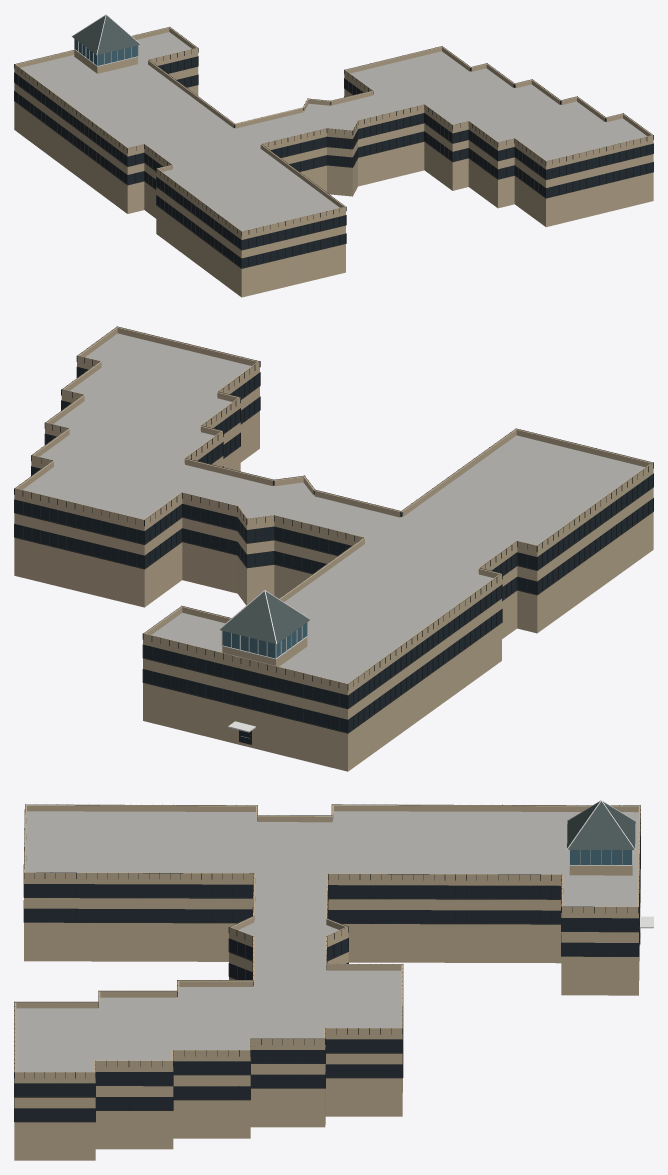
The model's file is administration_building.glb.
3 views of the same model, one above another, from view 1: azimuth 30°, elevation 25°; view 2: azimuth 150°, elevation 25°; view 3: azimuth 270°, elevation 25° (orthographic). The views are drawn at different scales.
Visible parts, largest first — view 1: administration_building_Wall_tan, administration_building_Roof_Membrane, administration_building_Glass_dark, administration_building_Frame_Dark, administration_building_Pyramid_Metal, administration_building_Glass_teal, administration_building_Trim_White; view 2: administration_building_Roof_Membrane, administration_building_Wall_tan, administration_building_Glass_dark, administration_building_Frame_Dark, administration_building_Pyramid_Metal, administration_building_Glass_teal, administration_building_Trim_White; view 3: administration_building_Roof_Membrane, administration_building_Wall_tan, administration_building_Glass_dark, administration_building_Frame_Dark, administration_building_Pyramid_Metal, administration_building_Glass_teal, administration_building_Trim_White.
Part boxes in pixels (x1=…): administration_building_Wall_tan: x1=14, y1=27, x2=653, y2=297; administration_building_Roof_Membrane: x1=20, y1=32, x2=646, y2=231; administration_building_Glass_dark: x1=14, y1=27, x2=653, y2=267; administration_building_Frame_Dark: x1=14, y1=47, x2=653, y2=268; administration_building_Pyramid_Metal: x1=72, y1=15, x2=139, y2=54; administration_building_Glass_teal: x1=74, y1=39, x2=137, y2=65; administration_building_Trim_White: x1=71, y1=14, x2=140, y2=66; administration_building_Roof_Membrane: x1=23, y1=333, x2=644, y2=683; administration_building_Wall_tan: x1=14, y1=326, x2=653, y2=771; administration_building_Glass_dark: x1=15, y1=326, x2=652, y2=744; administration_building_Frame_Dark: x1=14, y1=330, x2=653, y2=744; administration_building_Pyramid_Metal: x1=220, y1=591, x2=309, y2=644; administration_building_Glass_teal: x1=222, y1=623, x2=306, y2=658; administration_building_Trim_White: x1=218, y1=590, x2=310, y2=732; administration_building_Roof_Membrane: x1=16, y1=811, x2=638, y2=1071; administration_building_Wall_tan: x1=14, y1=804, x2=640, y2=1160; administration_building_Glass_dark: x1=15, y1=804, x2=639, y2=1121; administration_building_Frame_Dark: x1=14, y1=804, x2=640, y2=1122; administration_building_Pyramid_Metal: x1=567, y1=802, x2=635, y2=849; administration_building_Glass_teal: x1=570, y1=850, x2=631, y2=864; administration_building_Trim_White: x1=566, y1=800, x2=653, y2=928.
Size of the model in its own units: 90.71 by 22.75 by 91.48.
